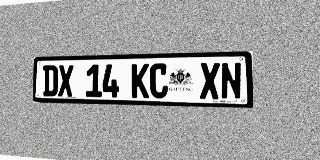1: (86, 64, 102, 97)
4: (102, 64, 119, 98)
C: (150, 63, 168, 98)
D: (43, 65, 58, 96)
K: (131, 64, 149, 98)
N: (221, 62, 242, 100)
X: (200, 62, 220, 99), (58, 65, 73, 97)
